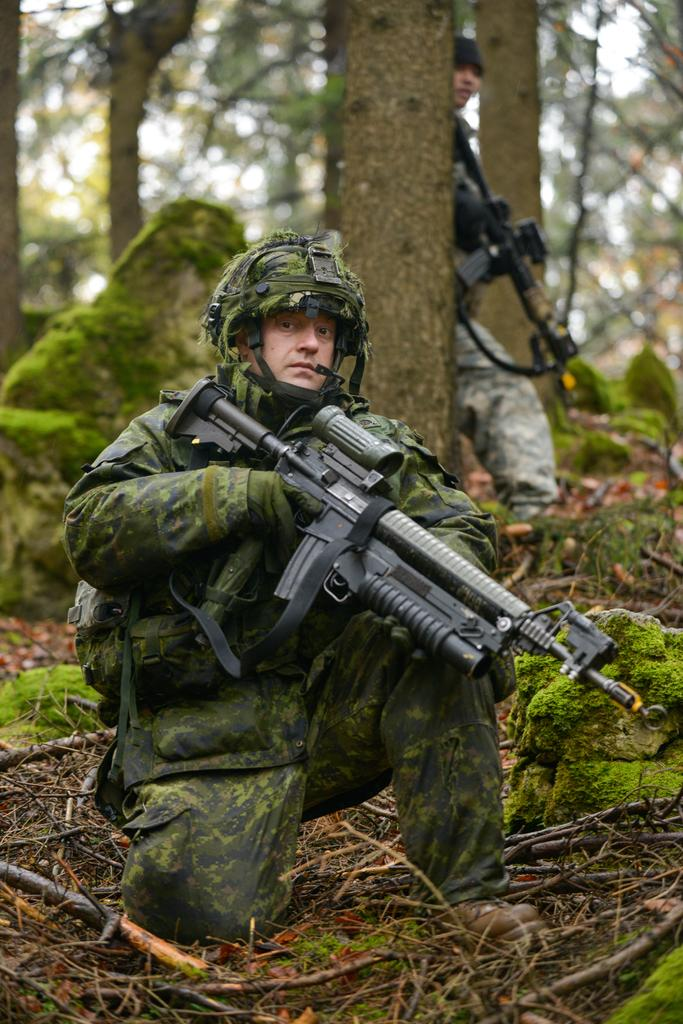Rifle: (162, 374, 641, 710), (451, 161, 583, 380)
